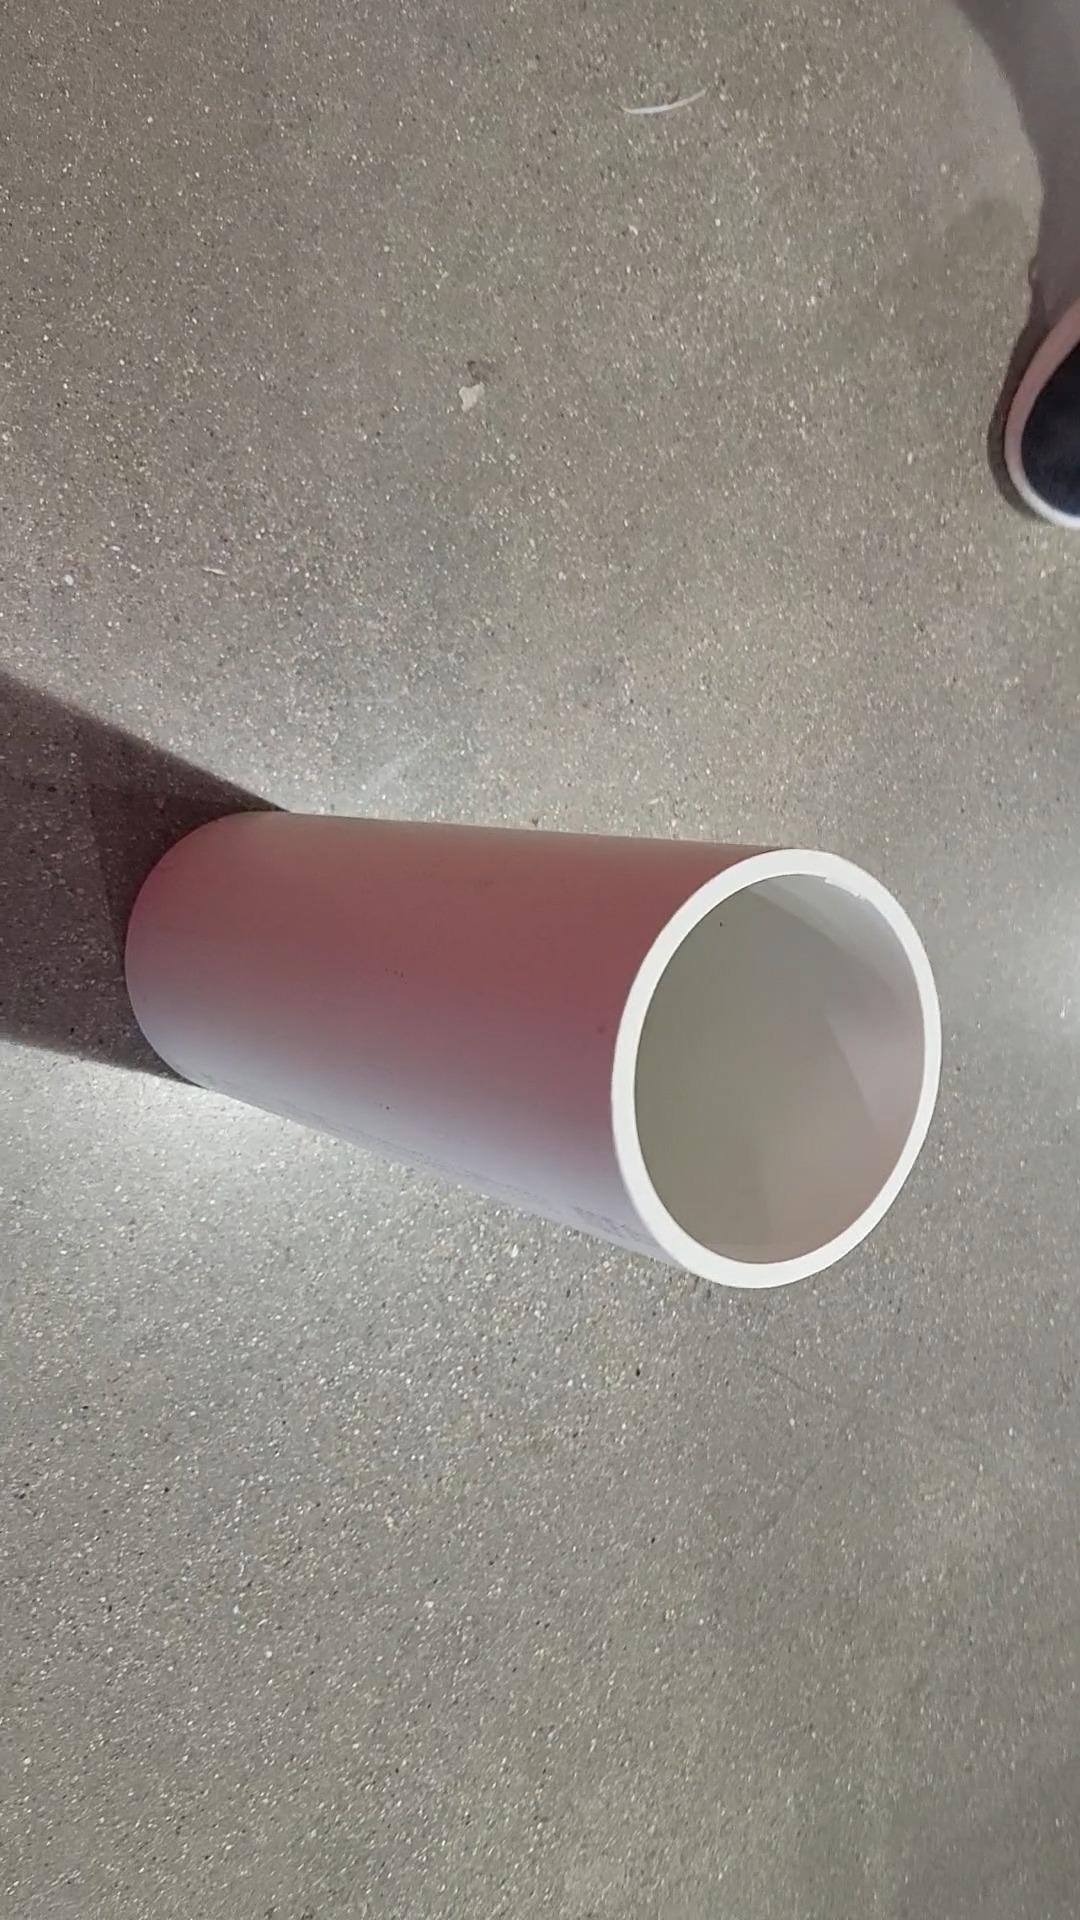coral: (125, 815, 943, 1292)
